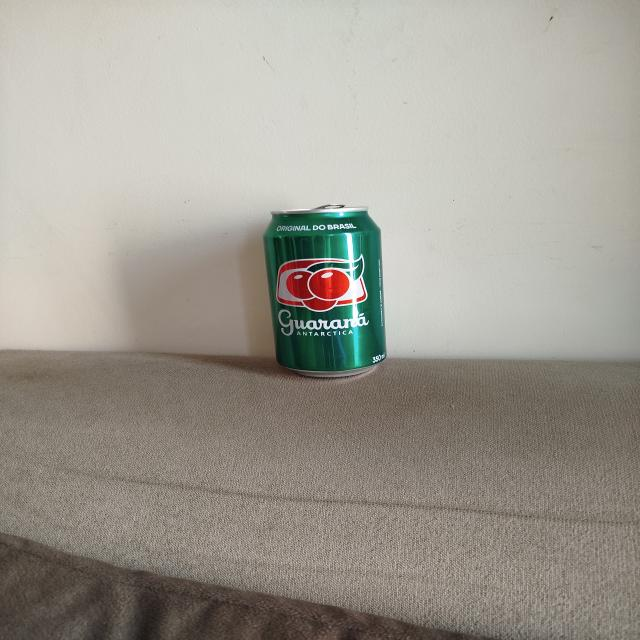Guarana: (263, 206, 385, 379)
